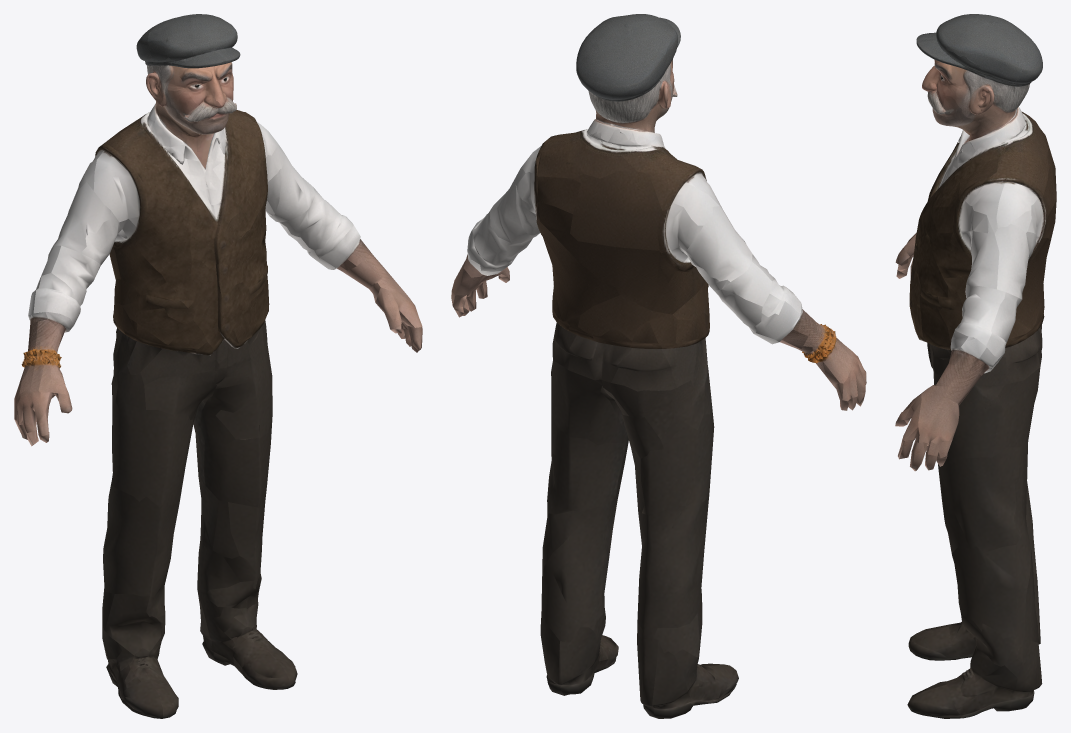
Rendered from riza_oyun_30k.glb.
3 views of the same model, side by side, from view 1: azimuth 30°, elevation 25°; view 2: azimuth 150°, elevation 25°; view 3: azimuth 270°, elevation 25° (orthographic).
Parts seen in each view (by area): view 1: karakter; view 2: karakter; view 3: karakter.
Boxes of the visible parts, x1=… form: karakter: x1=14, y1=14, x2=422, y2=718; karakter: x1=451, y1=14, x2=866, y2=718; karakter: x1=895, y1=14, x2=1056, y2=718.
Bounding box in the file's own units: 1.2 × 1.9 × 0.42.
Materials: 1 (1 with a texture image).
